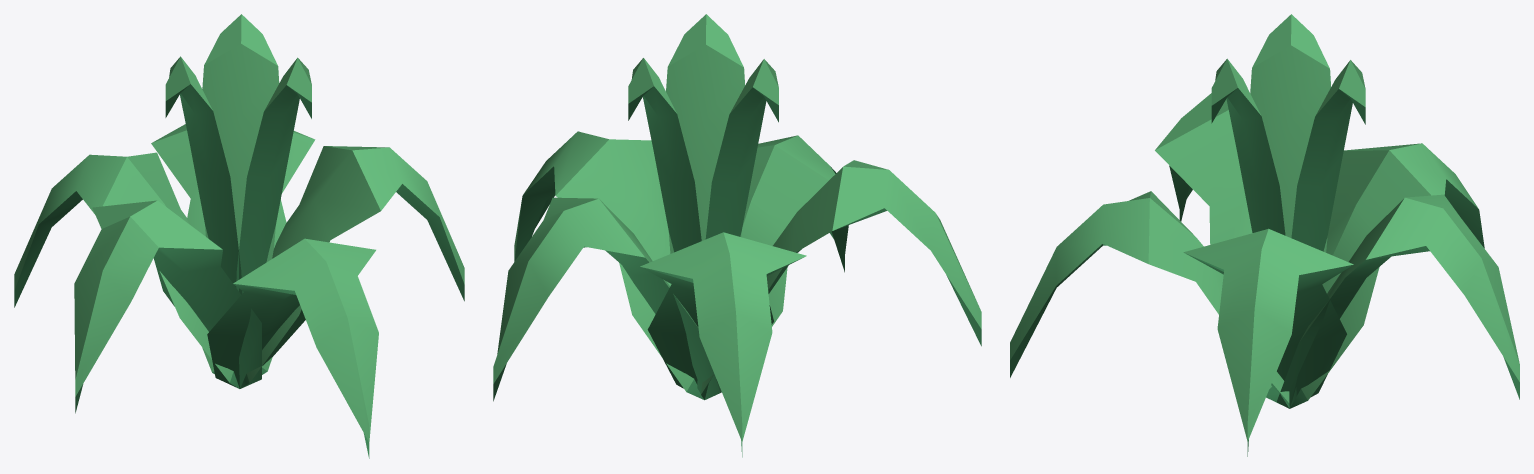
The model's file is fern-b.glb.
3 renders of one model, left to right at view 1: azimuth 30°, elevation 25°; view 2: azimuth 150°, elevation 25°; view 3: azimuth 270°, elevation 25°, orthographic. The views are drawn at different scales.
Visible parts, largest first — view 1: fern-b; view 2: fern-b; view 3: fern-b.
Part boxes in pixels (x1,y1,x2,y2): fern-b: (14, 14, 464, 458); fern-b: (493, 14, 981, 457); fern-b: (1010, 14, 1519, 456).
Bounding box in the file's own units: 1.3 × 1.02 × 1.29.
